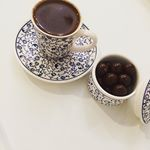cups: (29, 1, 100, 61)
